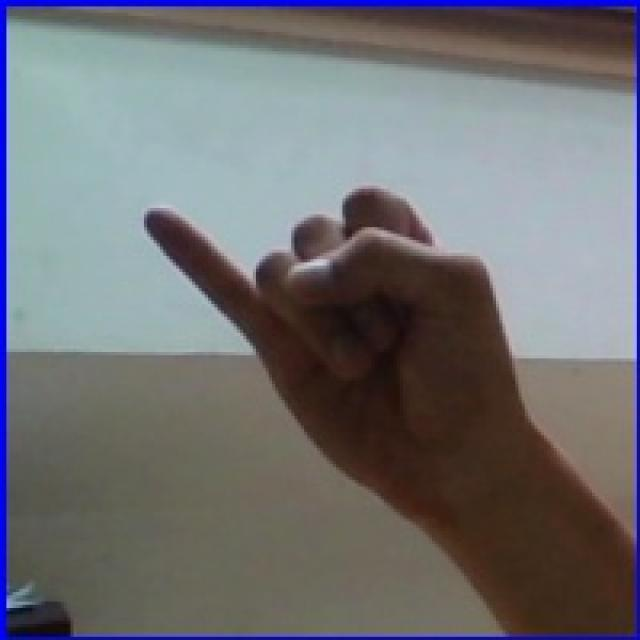J: (121, 123, 604, 572)
